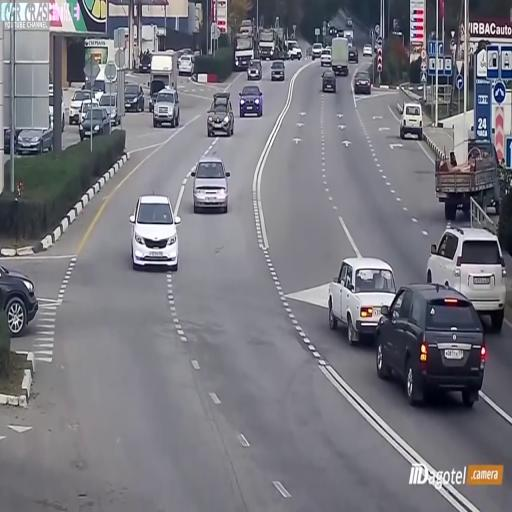小汽车: (381, 281, 491, 405), (432, 224, 512, 320), (437, 133, 512, 216), (329, 256, 384, 344), (130, 196, 180, 268), (0, 256, 39, 336), (193, 158, 230, 212), (208, 92, 234, 142), (232, 27, 256, 76), (236, 83, 268, 119), (82, 101, 109, 143), (398, 99, 426, 139), (154, 86, 180, 129), (331, 35, 353, 75), (353, 66, 372, 92), (318, 42, 334, 66), (271, 56, 286, 81), (321, 70, 336, 94), (248, 56, 263, 79), (309, 40, 324, 61), (360, 40, 374, 57)
